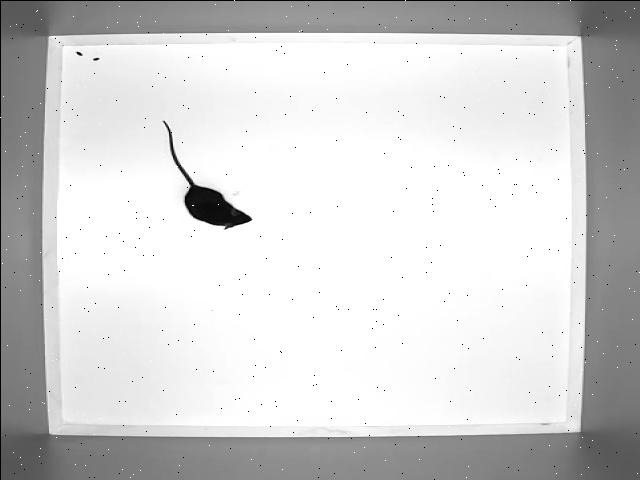Tikus: (150, 117, 254, 229)
